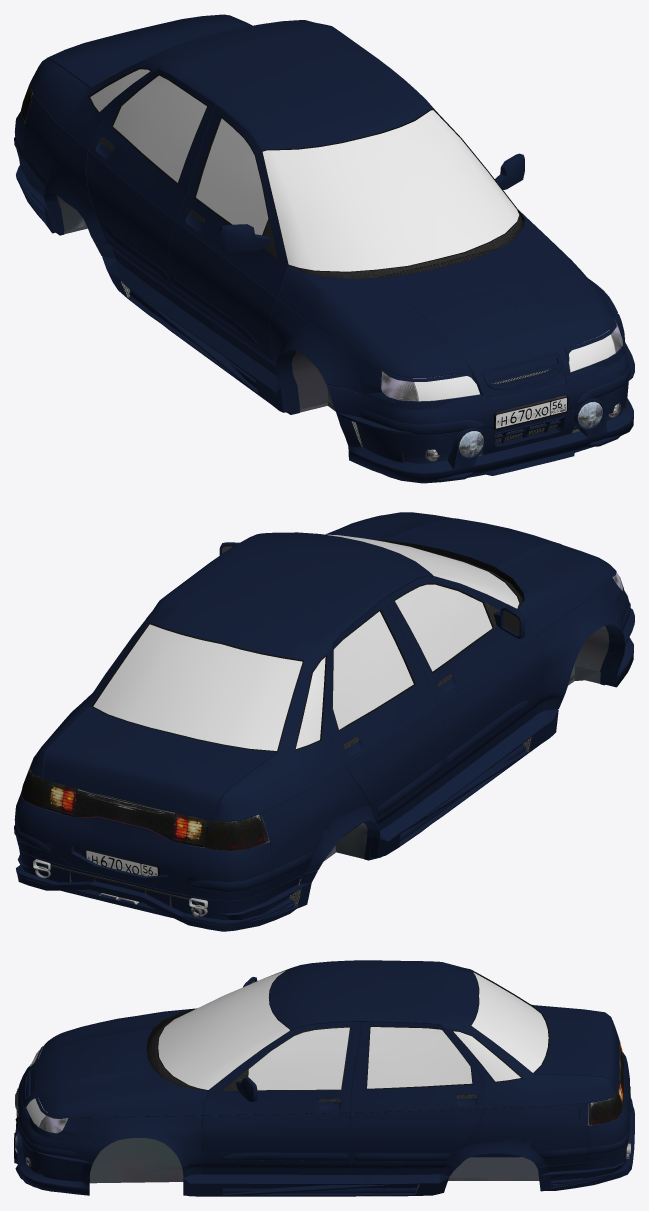
The model's file is Desyatka.fbx.
The picture shows the model from 3 angles, top to bottom: view 1: azimuth 30°, elevation 25°; view 2: azimuth 150°, elevation 25°; view 3: azimuth 270°, elevation 25°; orthographic projection. The views are drawn at different scales.
Visible parts, largest first — view 1: kit03_body, window, kit02_body, kit01_body, static_objects, body, kit04_body, front_lights_glass, kit02_objects, nomer, kit03_objects, kit04_objects; view 2: kit03_body, window, kit01_body, kit04_body, kit02_body, kit01_objects, static_objects, body, kit04_objects, nomer, kit03_objects; view 3: kit03_body, window, kit02_body, kit01_body, kit04_objects, kit04_body, static_objects, body, kit03_objects, standart_objects, kit01_objects, front_lights_glass.
Boxes of the visible parts, bbox=[...] form: kit03_body: bbox=[17, 14, 634, 482]; window: bbox=[90, 69, 519, 271]; kit02_body: bbox=[16, 69, 630, 482]; kit01_body: bbox=[14, 14, 629, 443]; static_objects: bbox=[88, 67, 622, 401]; body: bbox=[15, 67, 623, 437]; kit04_body: bbox=[16, 68, 623, 483]; front_lights_glass: bbox=[413, 330, 615, 401]; kit02_objects: bbox=[56, 195, 627, 462]; nomer: bbox=[493, 395, 568, 429]; kit03_objects: bbox=[121, 281, 602, 457]; kit04_objects: bbox=[64, 226, 621, 462]; kit03_body: bbox=[17, 512, 634, 920]; window: bbox=[93, 534, 519, 750]; kit01_body: bbox=[14, 540, 630, 901]; kit04_body: bbox=[17, 546, 629, 931]; kit02_body: bbox=[16, 546, 630, 927]; kit01_objects: bbox=[21, 630, 609, 909]; static_objects: bbox=[91, 540, 622, 751]; body: bbox=[21, 524, 611, 890]; kit04_objects: bbox=[25, 626, 608, 904]; nomer: bbox=[85, 849, 159, 876]; kit03_objects: bbox=[40, 664, 600, 911]; kit03_body: bbox=[15, 960, 624, 1196]; window: bbox=[158, 971, 548, 1090]; kit02_body: bbox=[15, 979, 632, 1193]; kit01_body: bbox=[19, 962, 630, 1182]; kit04_objects: bbox=[26, 1119, 616, 1183]; kit04_body: bbox=[14, 979, 634, 1196]; static_objects: bbox=[38, 969, 549, 1133]; body: bbox=[26, 1008, 621, 1159]; kit03_objects: bbox=[15, 1092, 629, 1194]; standart_objects: bbox=[100, 1103, 588, 1170]; kit01_objects: bbox=[89, 1038, 630, 1178]; front_lights_glass: bbox=[26, 1046, 47, 1126].
Bounding box in the file's own units: 1.79 × 1.24 × 4.26.
8 materials, 7 textured.
